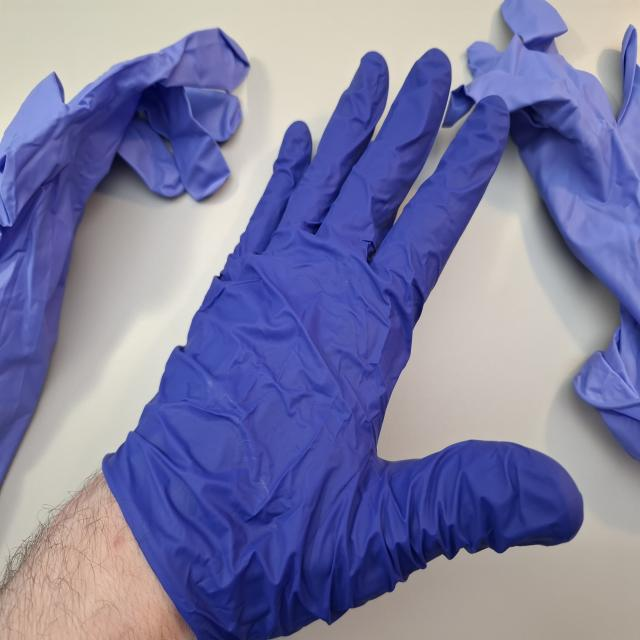glove_on: (102, 44, 586, 640)
